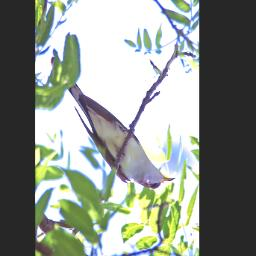Cuckoo: (50, 56, 175, 191)
